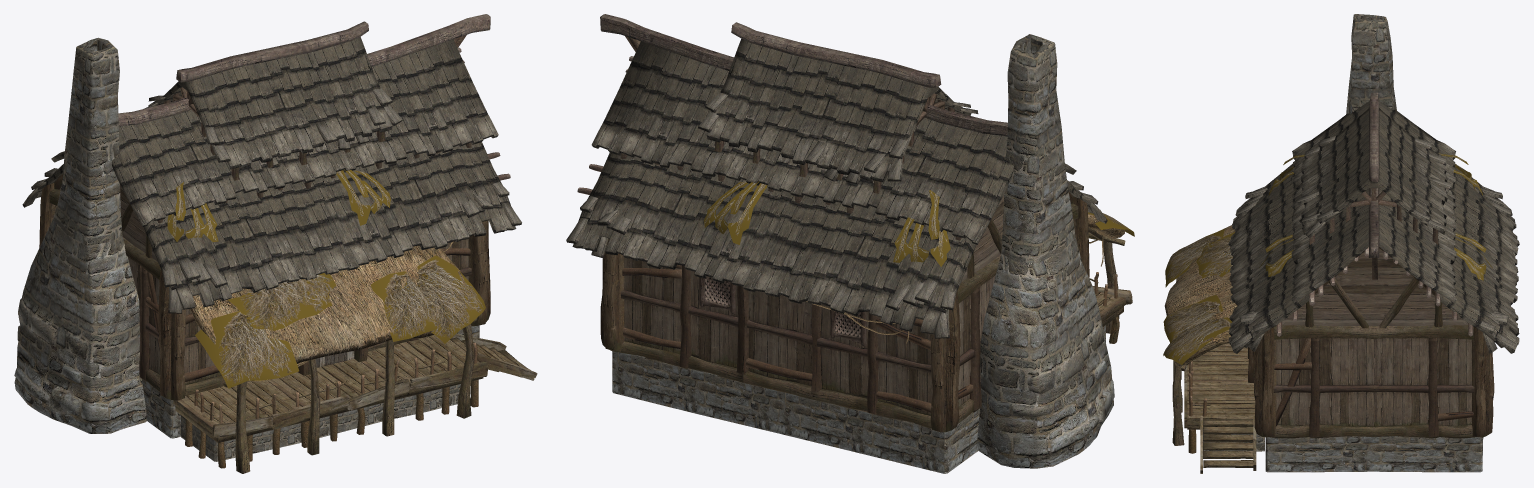
Rendered from House01.FBX.
The picture shows the model from 3 angles, left to right: view 1: azimuth 30°, elevation 25°; view 2: azimuth 150°, elevation 25°; view 3: azimuth 270°, elevation 25°; orthographic projection. The views are drawn at different scales.
Parts seen in each view (by area): view 1: LV_TurtleLake_Lakevillage_House01A_SM_EYE, LV_TurtleLake_Lakevillage_House01C_SM_EYE, LV_TurtleLake_Lakevillage_House01B_SM_EYE; view 2: LV_TurtleLake_Lakevillage_House01A_SM_EYE, LV_TurtleLake_Lakevillage_House01C_SM_EYE, LV_TurtleLake_Lakevillage_House01B_SM_EYE; view 3: LV_TurtleLake_Lakevillage_House01A_SM_EYE, LV_TurtleLake_Lakevillage_House01C_SM_EYE, LV_TurtleLake_Lakevillage_House01B_SM_EYE.
Boxes of the visible parts, x1,y1,x2,y2 form: LV_TurtleLake_Lakevillage_House01A_SM_EYE: (22, 14, 521, 400); LV_TurtleLake_Lakevillage_House01C_SM_EYE: (14, 37, 485, 461); LV_TurtleLake_Lakevillage_House01B_SM_EYE: (173, 241, 537, 473); LV_TurtleLake_Lakevillage_House01A_SM_EYE: (566, 14, 1107, 432); LV_TurtleLake_Lakevillage_House01C_SM_EYE: (612, 34, 1134, 473); LV_TurtleLake_Lakevillage_House01B_SM_EYE: (699, 213, 1132, 346); LV_TurtleLake_Lakevillage_House01A_SM_EYE: (1228, 92, 1519, 438); LV_TurtleLake_Lakevillage_House01C_SM_EYE: (1163, 14, 1492, 472); LV_TurtleLake_Lakevillage_House01B_SM_EYE: (1164, 225, 1256, 473).
Size of the model in its own units: 379 by 288 by 291.
